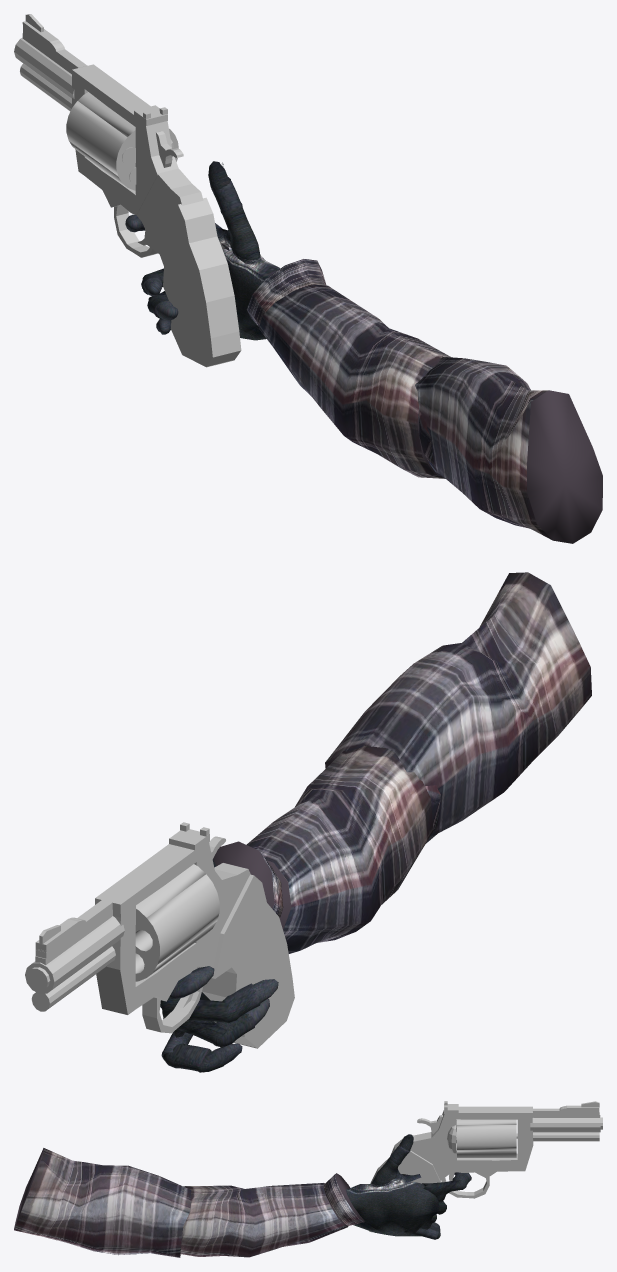
The model's file is S&W500_view.fbx.
3 renders of one model, top to bottom at view 1: azimuth 30°, elevation 25°; view 2: azimuth 150°, elevation 25°; view 3: azimuth 270°, elevation 25°, orthographic. The views are drawn at different scales.
Parts seen in each view (by area): view 1: rupperarm, rforearm, 500Grip, 500Body, 500Cylinder, rhand, 500Barrel, rthumbback, 500FrontSight, 500TriggerGuard; view 2: rupperarm, rforearm, 500Body, 500Grip, 500Cylinder, 500Barrel, 500FrontSight, 500TriggerGuard, rmfingerback, rpinkymiddle, rmfingermiddle, rpfingerfront (+4 smaller); view 3: rupperarm, rforearm, 500Body, rhand, 500Cylinder, 500Barrel, 500Grip, 500FrontSight, rthumbback, rpfingerback, 500TriggerGuard, rthumbmiddle.
Boxes of the visible parts, x1,y1,x2,y2 form: rupperarm: (415, 356, 602, 543); rforearm: (246, 259, 450, 478); 500Grip: (146, 197, 241, 367); 500Body: (72, 64, 203, 234); 500Cylinder: (66, 92, 178, 190); rhand: (222, 246, 279, 340); 500Barrel: (14, 37, 74, 111); rthumbback: (215, 208, 261, 264); 500FrontSight: (22, 14, 87, 74); 500TriggerGuard: (114, 205, 157, 257); rupperarm: (325, 572, 591, 843); rforearm: (213, 745, 433, 953); 500Body: (95, 842, 250, 1014); 500Grip: (202, 874, 294, 1048); 500Cylinder: (135, 864, 219, 981); 500Barrel: (25, 916, 124, 1011); 500FrontSight: (35, 900, 112, 965); 500TriggerGuard: (142, 967, 203, 1033); rmfingerback: (162, 997, 229, 1022); rpinkymiddle: (163, 1043, 211, 1072); rmfingermiddle: (222, 983, 260, 1023); rpfingerfront: (169, 966, 214, 998); rupperarm: (14, 1148, 191, 1257); rforearm: (180, 1173, 364, 1257); 500Body: (401, 1106, 533, 1180); rhand: (346, 1181, 440, 1236); 500Cylinder: (457, 1119, 517, 1157); 500Barrel: (530, 1115, 602, 1141); 500Grip: (369, 1139, 441, 1232); 500FrontSight: (532, 1101, 599, 1117); rthumbback: (371, 1157, 421, 1187); rpfingerback: (422, 1180, 461, 1202); 500TriggerGuard: (441, 1177, 489, 1198); rthumbmiddle: (389, 1145, 410, 1164).
Bounding box in the file's own units: 5.8 × 8.73 × 33.62.
